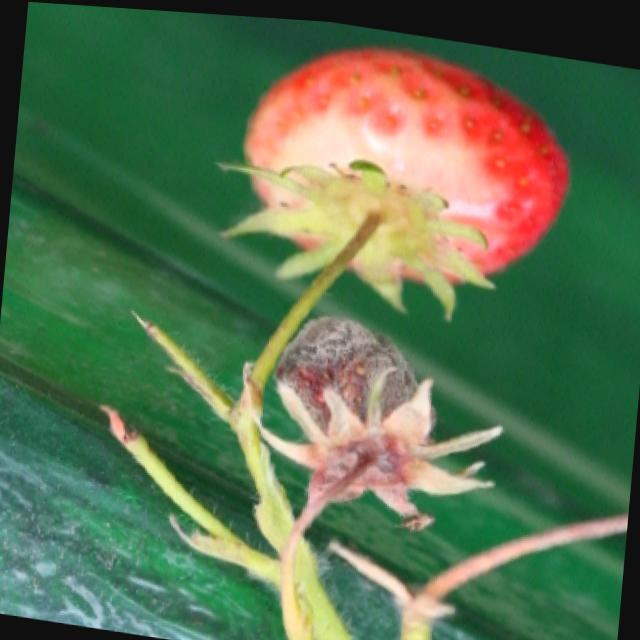Gray Mold: (240, 308, 504, 526)
